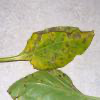Bell_pepper leaf spot: (14, 24, 95, 71), (6, 68, 90, 99)
